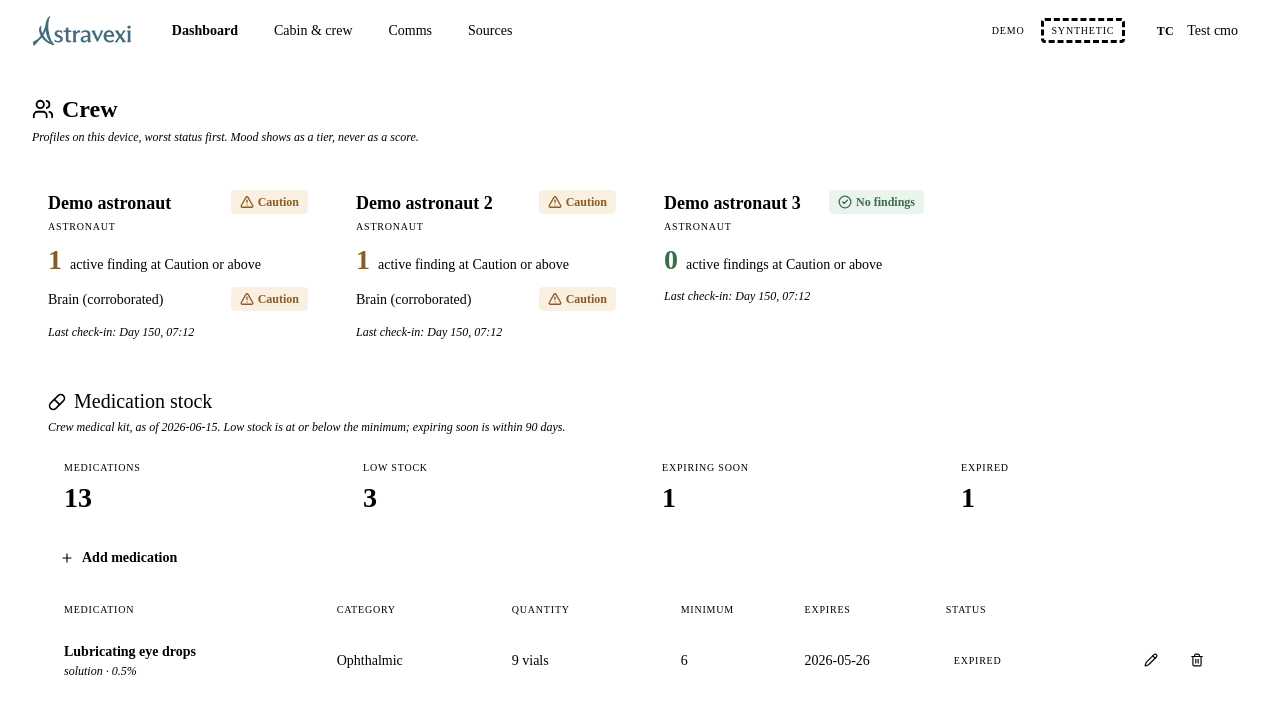
Test: Cabin & crew analysis page › is reachable from the CMO navigation and has a heading
Click the button "Cabin & crew": (313, 30) left=258, top=12, right=368, bottom=49
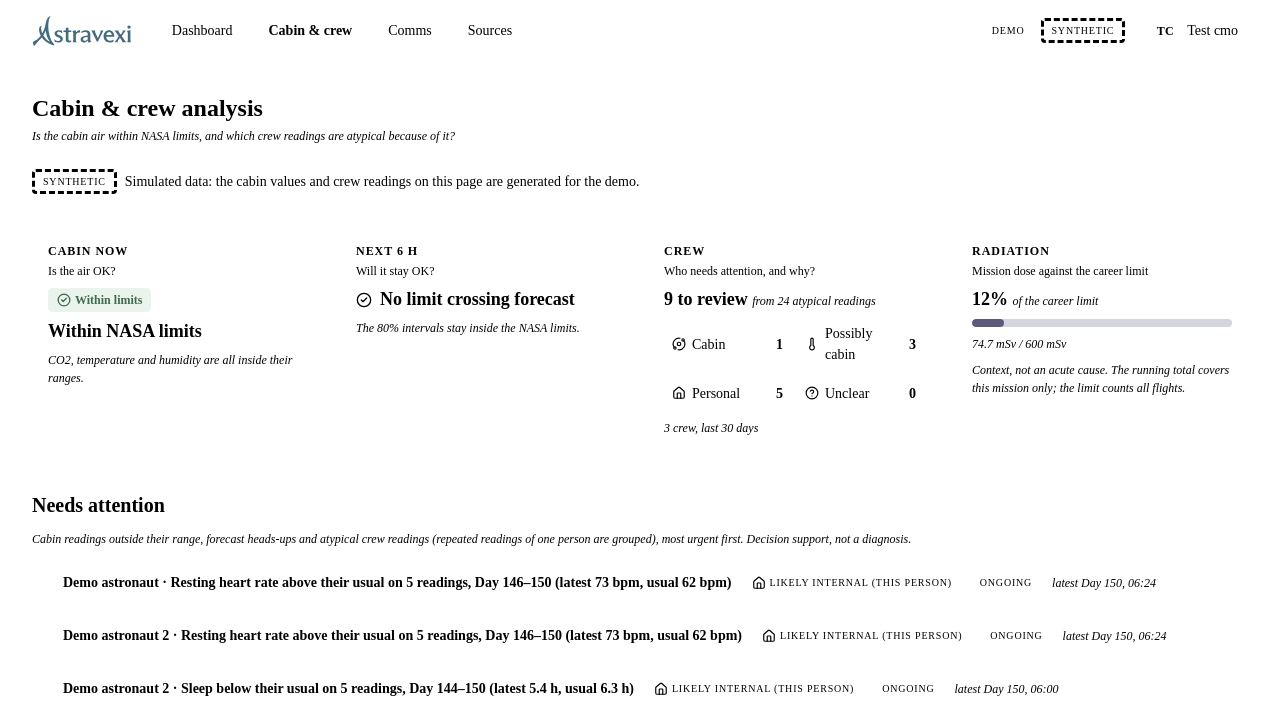
expect the heading "Cabin & crew analysis" is shown: met, box left=32, top=95, right=263, bottom=121
